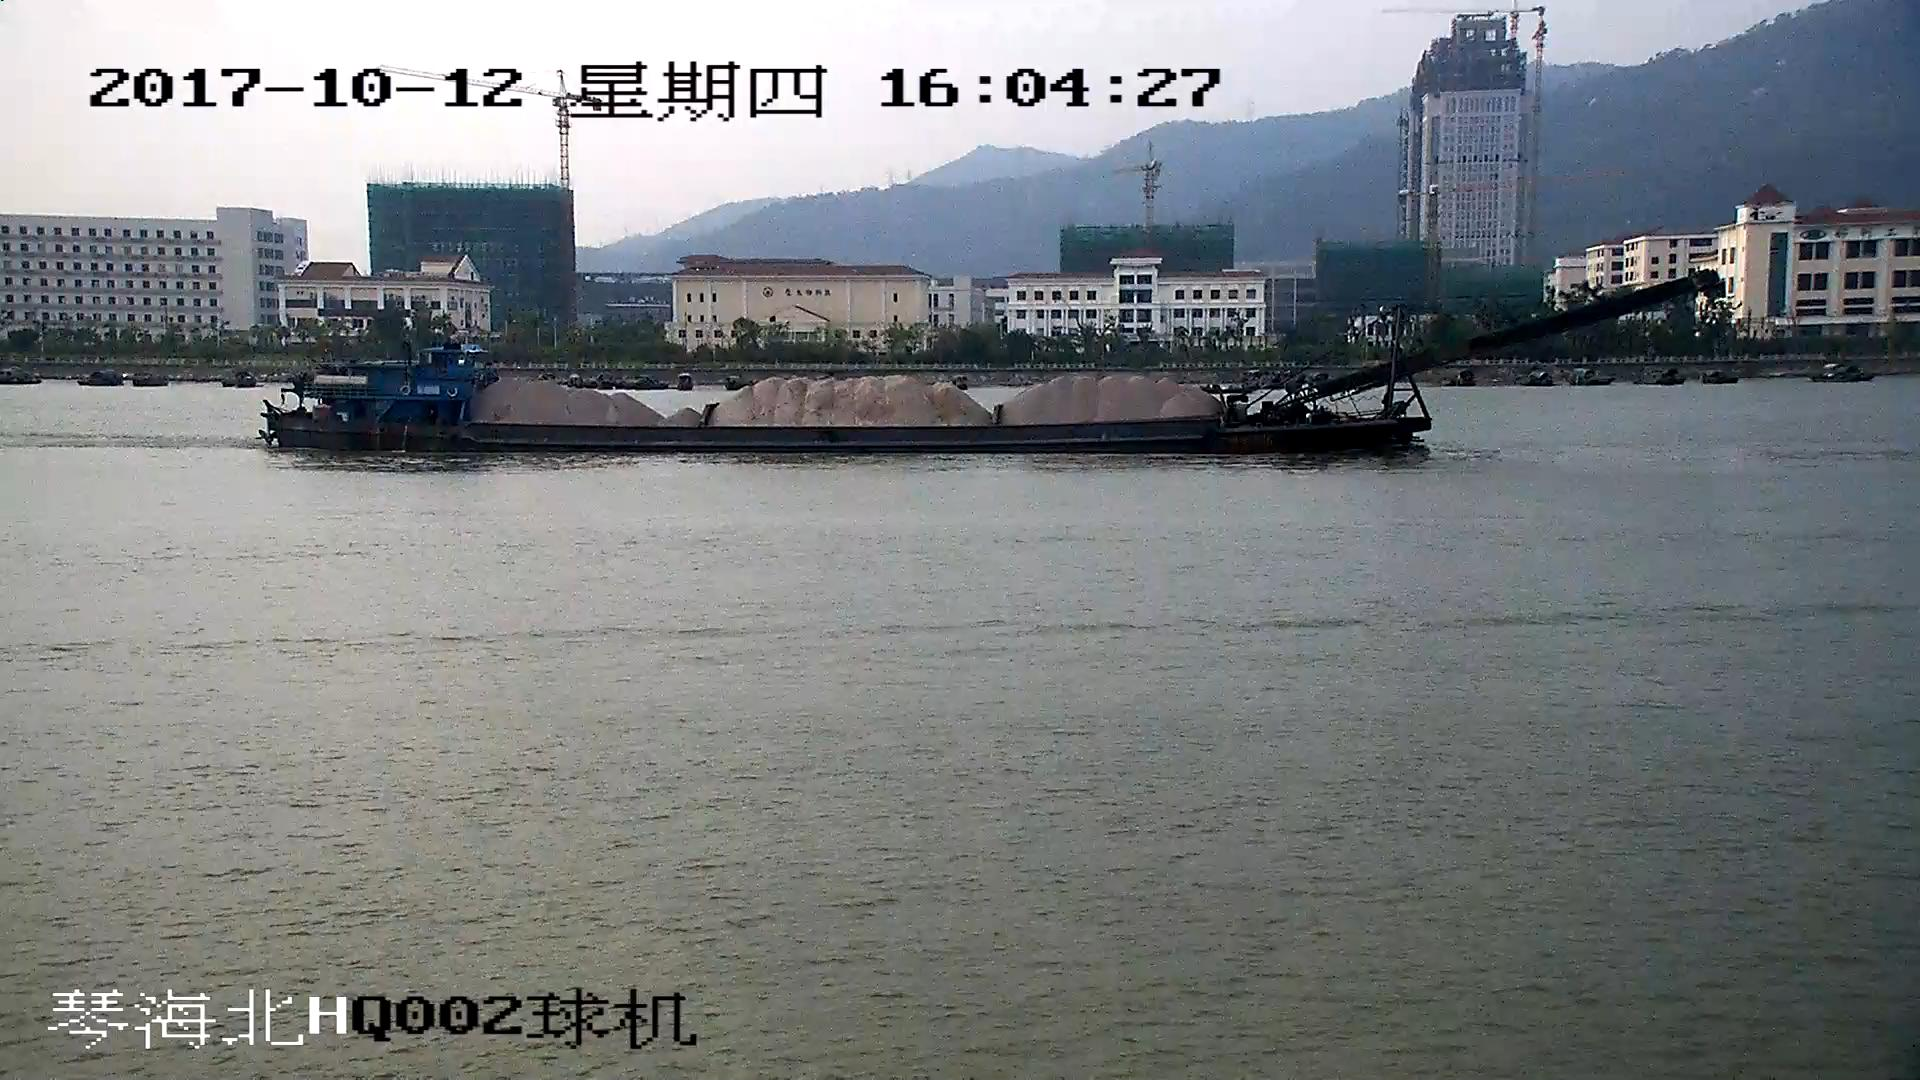ore carrier: (260, 269, 1714, 457)
